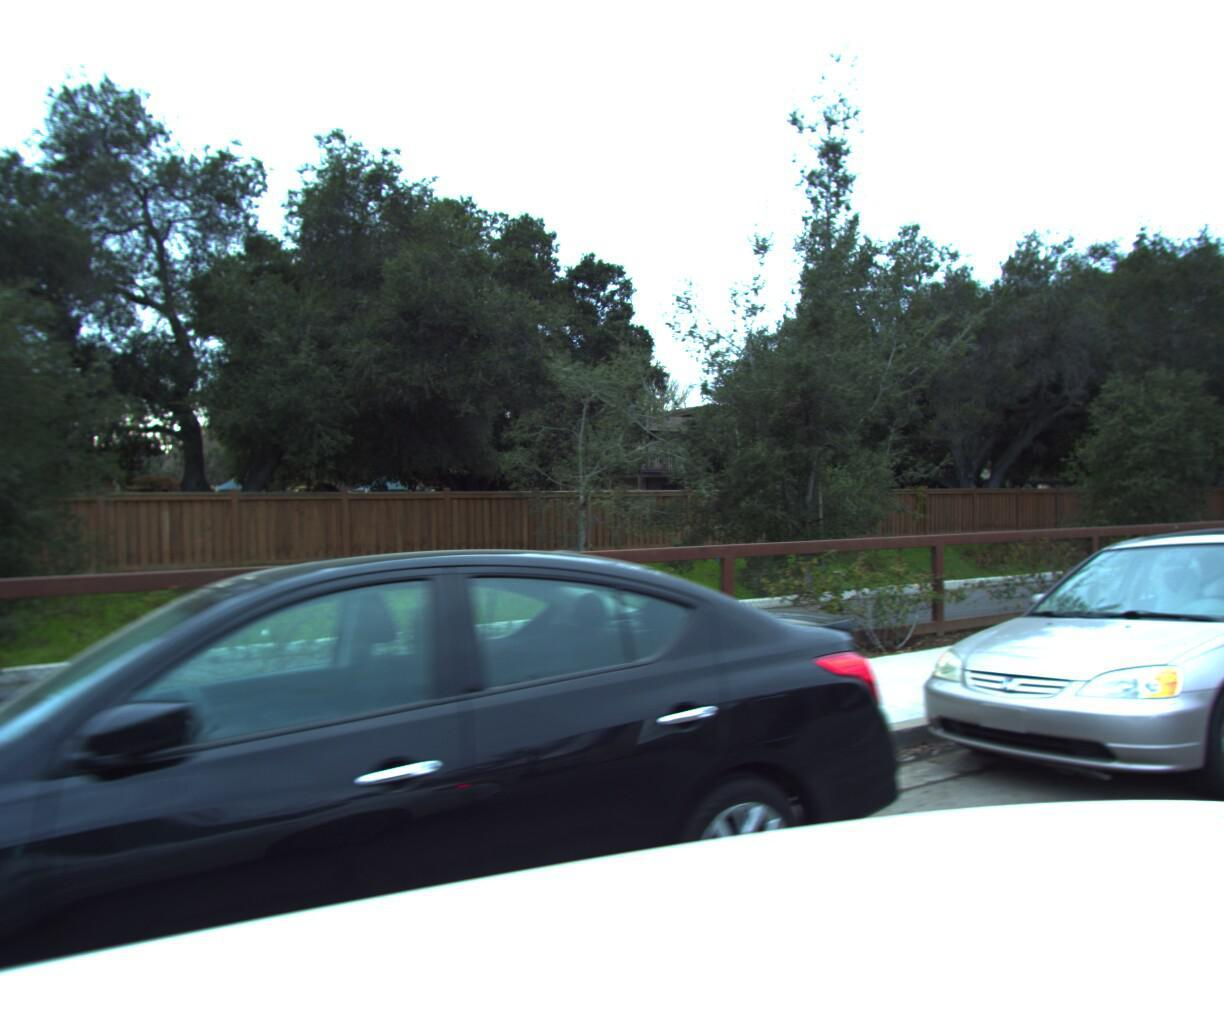car: (0, 533, 938, 1024), (882, 518, 1224, 865)
